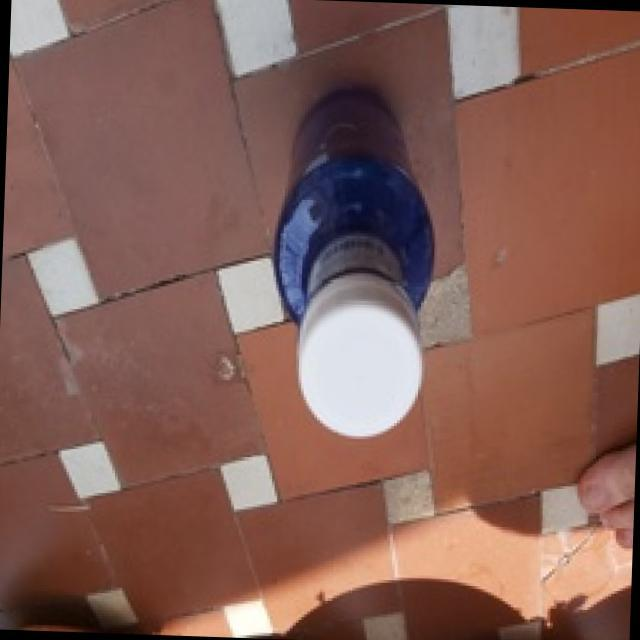good: (259, 70, 482, 445)
